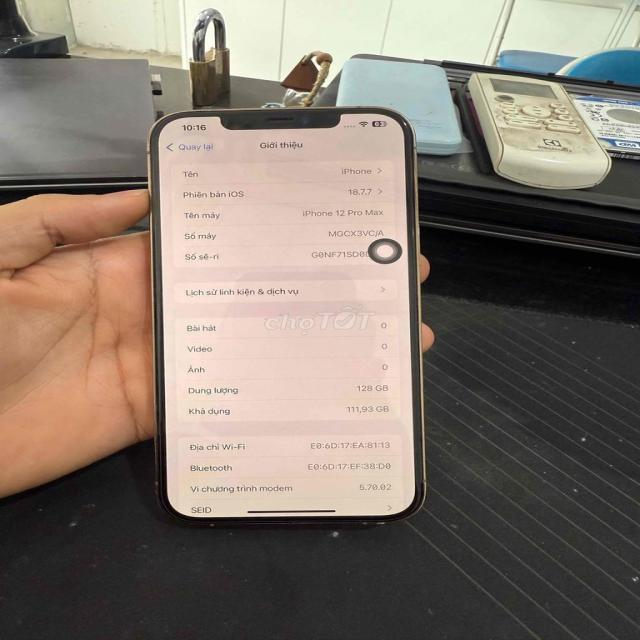gen_12_13: (135, 101, 436, 532)
